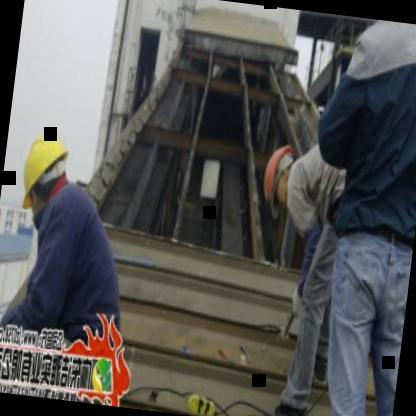helmet: (17, 118, 77, 221), (256, 138, 301, 222)
